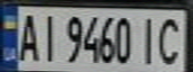0: (115, 12, 136, 65)
4: (81, 11, 100, 64)
6: (97, 12, 118, 64)
9: (60, 11, 84, 63)
A: (15, 10, 42, 62)
C: (154, 12, 187, 66)
I: (136, 14, 163, 66), (36, 10, 60, 63)
